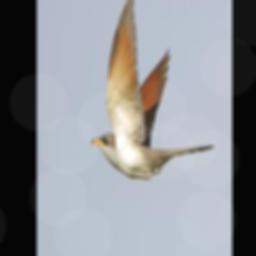Cuckoo: (91, 0, 215, 177)
